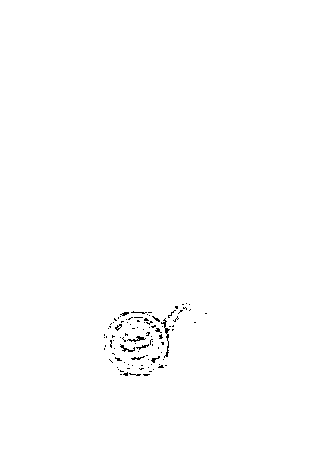Round chop: (104, 312, 170, 376)
